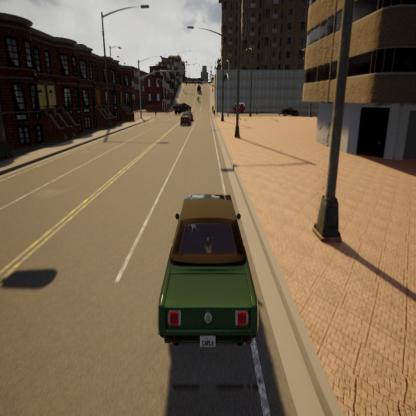Cars: (144, 174, 267, 359), (280, 102, 301, 119), (229, 99, 247, 116), (172, 101, 193, 115), (180, 112, 194, 128), (182, 106, 194, 122), (196, 83, 201, 92), (197, 95, 200, 104)
Pedestrian: (151, 102, 159, 120), (254, 101, 260, 119), (211, 106, 216, 117)
